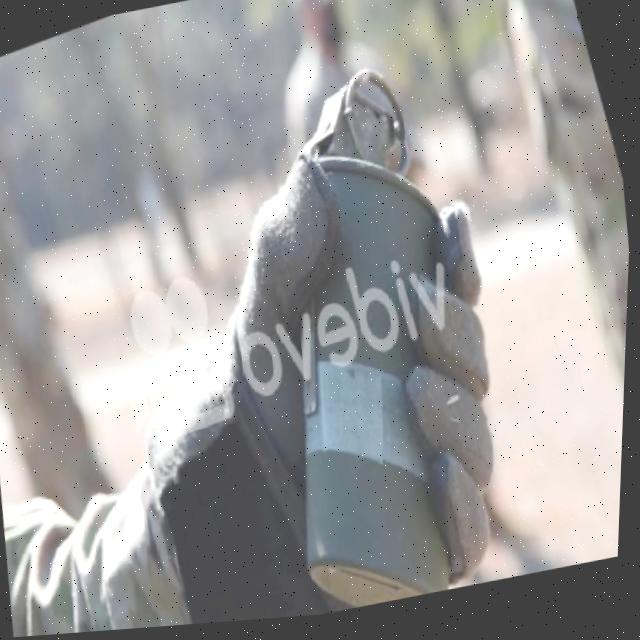grenade: (170, 33, 571, 629)
